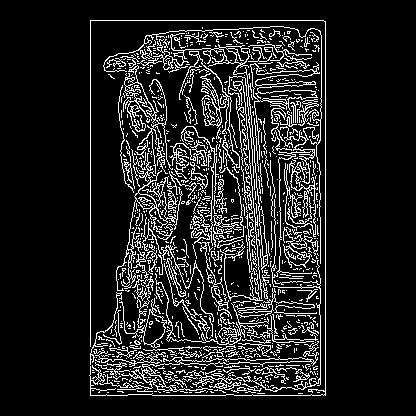buddha-sitting: (282, 160, 316, 264)
